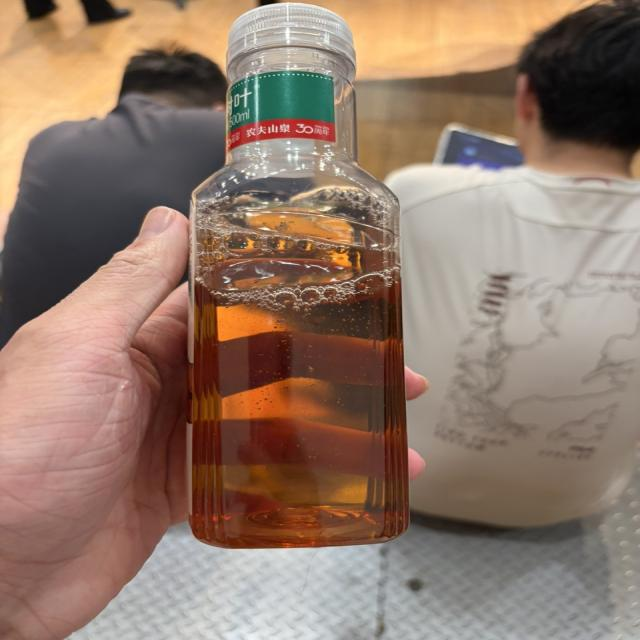medium: (187, 3, 408, 548)
